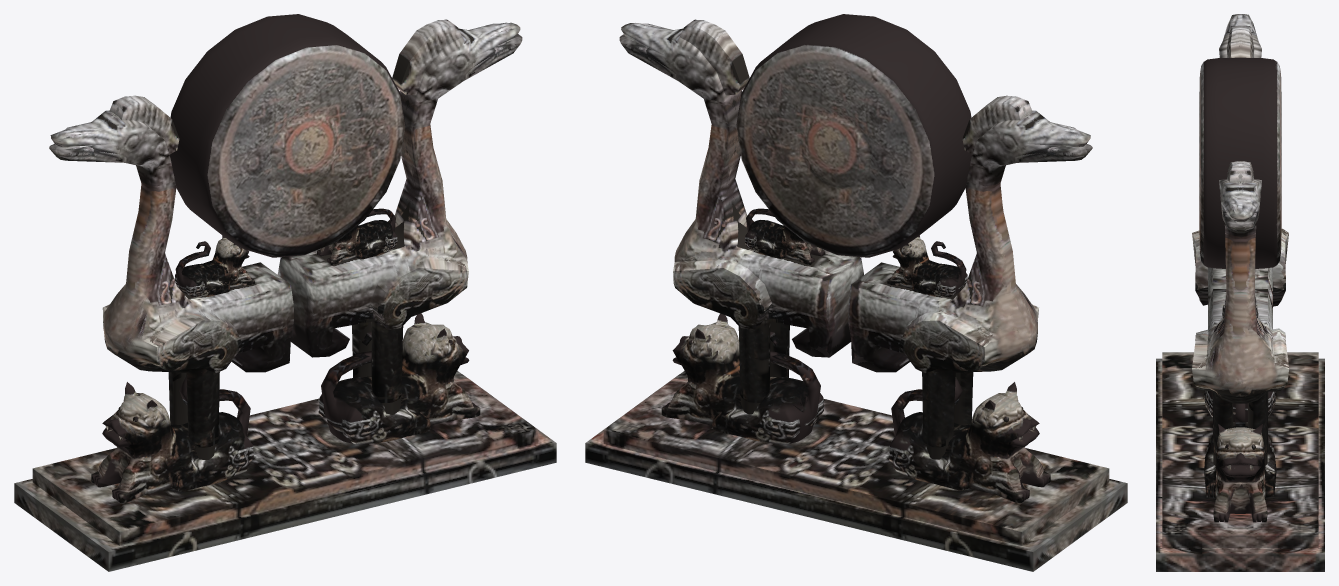
Rendered from huzuoniaojiagu.glb.
3 renders of one model, left to right at view 1: azimuth 30°, elevation 25°; view 2: azimuth 150°, elevation 25°; view 3: azimuth 270°, elevation 25°, orthographic. The views are drawn at different scales.
Visible parts, largest first — view 1: polySurface29, polySurface46, polySurface42, polySurface21, polySurface20, polySurface34.001, polySurface34, polySurface35.001, polySurface35; view 2: polySurface29, polySurface46, polySurface42, polySurface21, polySurface20, polySurface34.001, polySurface34, polySurface35.001, polySurface35; view 3: polySurface21, polySurface42, polySurface29, polySurface20, polySurface34.001, polySurface46, polySurface34.
Boxes of the visible parts, x1=… form: polySurface29: x1=169, y1=14, x2=405, y2=257; polySurface46: x1=49, y1=95, x2=293, y2=460; polySurface42: x1=277, y1=19, x2=522, y2=414; polySurface21: x1=32, y1=370, x2=538, y2=545; polySurface20: x1=14, y1=374, x2=556, y2=571; polySurface34.001: x1=318, y1=313, x2=480, y2=444; polySurface34: x1=91, y1=377, x2=253, y2=502; polySurface35.001: x1=174, y1=235, x2=254, y2=297; polySurface35: x1=317, y1=208, x2=397, y2=264; polySurface29: x1=736, y1=14, x2=972, y2=257; polySurface46: x1=848, y1=95, x2=1092, y2=459; polySurface42: x1=619, y1=19, x2=863, y2=414; polySurface21: x1=603, y1=371, x2=1109, y2=545; polySurface20: x1=585, y1=374, x2=1127, y2=571; polySurface34.001: x1=661, y1=313, x2=823, y2=444; polySurface34: x1=889, y1=377, x2=1050, y2=502; polySurface35.001: x1=887, y1=235, x2=967, y2=297; polySurface35: x1=745, y1=208, x2=825, y2=264; polySurface21: x1=1162, y1=352, x2=1318, y2=547; polySurface42: x1=1192, y1=161, x2=1288, y2=465; polySurface29: x1=1199, y1=57, x2=1281, y2=268; polySurface20: x1=1156, y1=358, x2=1324, y2=571; polySurface34.001: x1=1204, y1=403, x2=1276, y2=522; polySurface46: x1=1192, y1=14, x2=1288, y2=306; polySurface34: x1=1204, y1=390, x2=1276, y2=421.
Bounding box in the file's own units: 0.2557 × 0.2367 × 0.089.
Materials: 4 (4 with a texture image).
